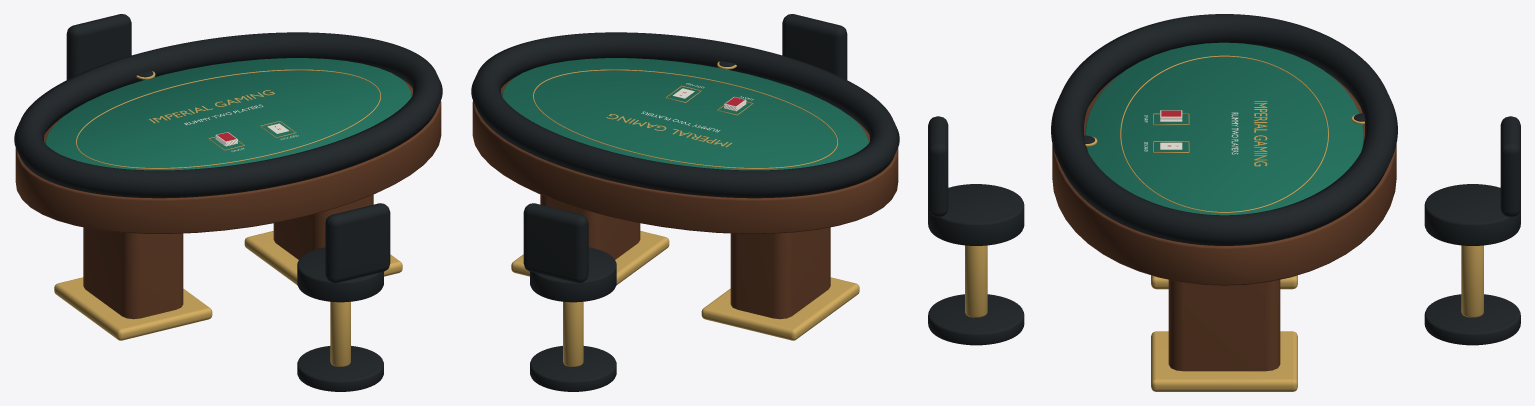
File: Rummy_2.glb
3 renders of one model, left to right at view 1: azimuth 30°, elevation 25°; view 2: azimuth 150°, elevation 25°; view 3: azimuth 270°, elevation 25°, orthographic. The views are drawn at different scales.
Parts seen in each view (by area): view 1: Emerald playing surface, Padded perimeter rail, Walnut table cabinet, Pedestal, Seat 00 backrest, Pedestal brass shoe, Seat 01 backrest, Seat 00 foot, Seat 00 cushion, Pedestal.001, Pedestal brass shoe.001, Seat 00 pedestal (+2 smaller); view 2: Emerald playing surface, Padded perimeter rail, Walnut table cabinet, Pedestal, Seat 01 backrest, Pedestal brass shoe, Seat 00 backrest, Seat 01 foot, Seat 01 cushion, Pedestal.001, Pedestal brass shoe.001, Seat 01 pedestal (+2 smaller); view 3: Emerald playing surface, Padded perimeter rail, Walnut table cabinet, Pedestal.001, Seat 00 cushion, Seat 01 cushion, Pedestal brass shoe.001, Seat 00 foot, Seat 01 foot, Seat 00 backrest, Seat 01 backrest, Seat 00 pedestal (+2 smaller).
Boxes of the visible parts, x1,y1,x2,y2 form: Emerald playing surface: (45,58,411,170); Padded perimeter rail: (14,32,442,198); Walnut table cabinet: (15,79,441,233); Pedestal: (83,227,183,319); Seat 00 backrest: (325,203,390,282); Pedestal brass shoe: (54,277,212,340); Seat 01 backrest: (66,14,131,79); Seat 00 foot: (297,346,383,391); Seat 00 cushion: (297,247,383,302); Pedestal.001: (273,194,373,259); Pedestal brass shoe.001: (244,231,402,285); Seat 00 pedestal: (330,301,350,366); Emerald playing surface: (502,58,868,170); Padded perimeter rail: (471,32,899,198); Walnut table cabinet: (472,79,898,233); Pedestal: (730,227,830,319); Seat 01 backrest: (523,203,588,282); Pedestal brass shoe: (701,277,859,340); Seat 00 backrest: (782,14,847,79); Seat 01 foot: (530,346,616,391); Seat 01 cushion: (530,247,616,302); Pedestal.001: (540,194,640,259); Pedestal brass shoe.001: (511,231,669,285); Seat 01 pedestal: (563,301,583,366); Emerald playing surface: (1085,42,1363,215); Padded perimeter rail: (1051,14,1397,245); Walnut table cabinet: (1052,74,1396,285); Pedestal.001: (1168,280,1280,371); Seat 00 cushion: (928,184,1024,245); Seat 01 cushion: (1424,184,1520,245); Pedestal brass shoe.001: (1151,331,1297,391); Seat 00 foot: (928,294,1024,345); Seat 01 foot: (1424,294,1520,345); Seat 00 backrest: (928,116,948,217); Seat 01 backrest: (1500,116,1520,217); Seat 00 pedestal: (965,245,987,317).
Size of the model in its own units: 2.01 by 0.9175 by 2.34.
